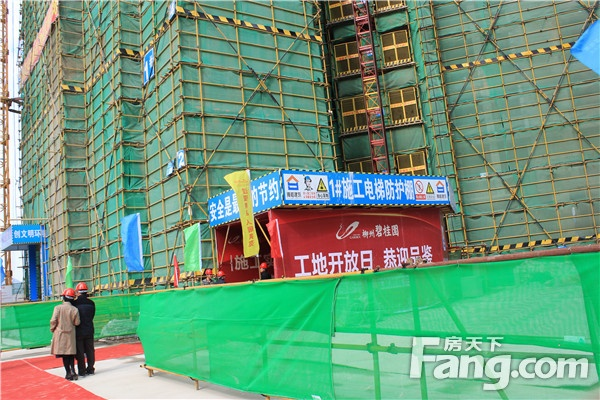red: (62, 287, 76, 304), (75, 282, 88, 297), (203, 268, 213, 280), (216, 270, 225, 280), (259, 262, 267, 273)
